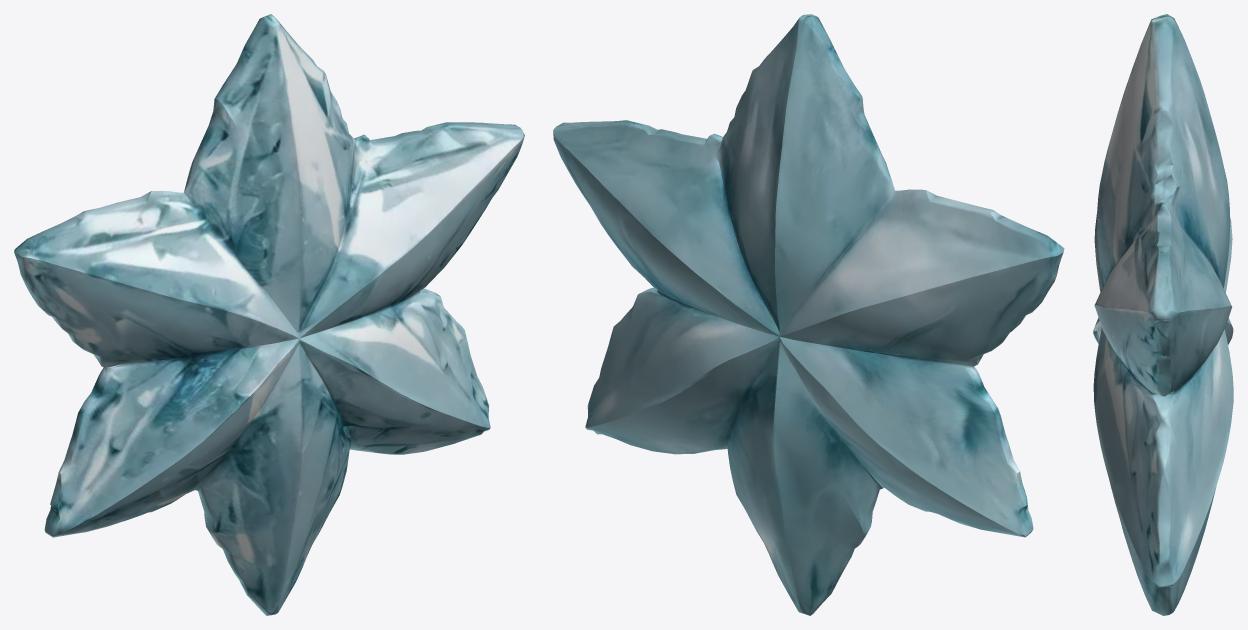
The model's file is m2FrostStar.glb.
3 renders of one model, left to right at view 1: azimuth 30°, elevation 25°; view 2: azimuth 150°, elevation 25°; view 3: azimuth 270°, elevation 25°, orthographic.
Parts seen in each view (by area): view 1: model; view 2: model; view 3: model.
Part boxes in pixels (x1=…): model: x1=14, y1=14, x2=524, y2=615; model: x1=553, y1=14, x2=1064, y2=615; model: x1=1093, y1=14, x2=1233, y2=615.
Size of the model in its own units: 1.68 by 1.9 by 0.4031.
Materials: 1 (1 with a texture image).
